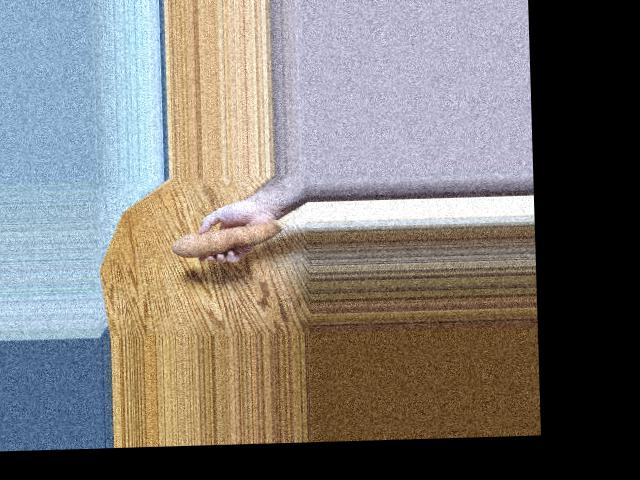sweet_potato: (171, 219, 276, 265)
